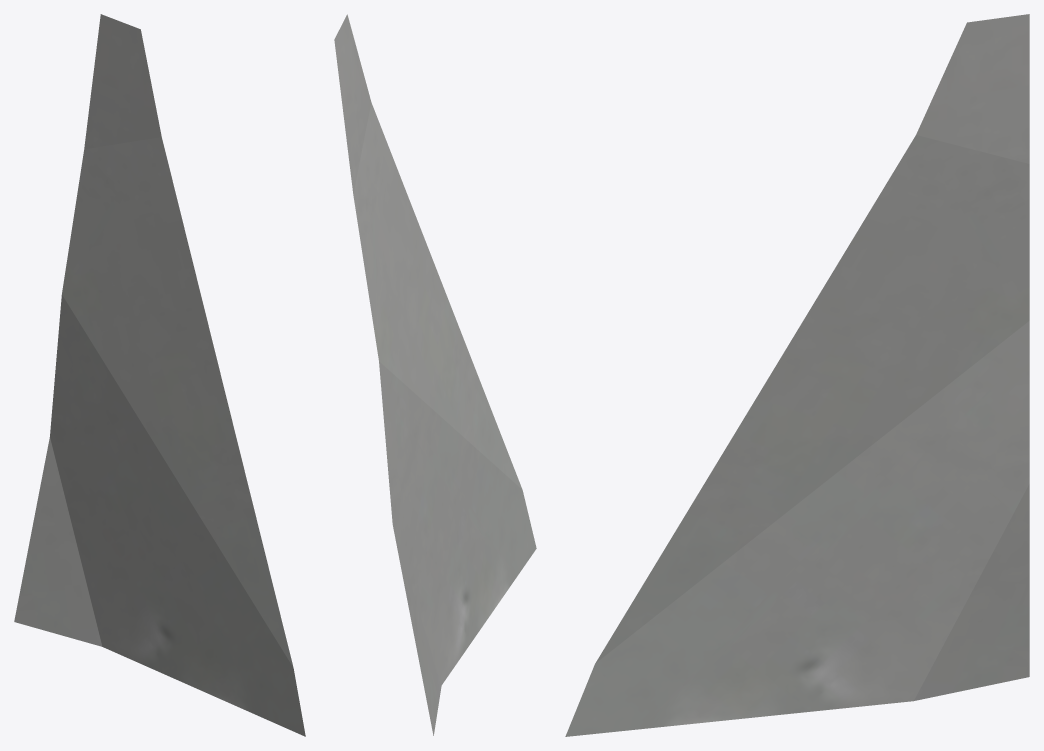
3 views of the same model, side by side, from view 1: azimuth 30°, elevation 25°; view 2: azimuth 150°, elevation 25°; view 3: azimuth 270°, elevation 25° (orthographic). The views are drawn at different scales.
Size of the model in its own units: 0.1507 by 0.8373 by 0.4933.
Materials: 1 (1 with a texture image).
